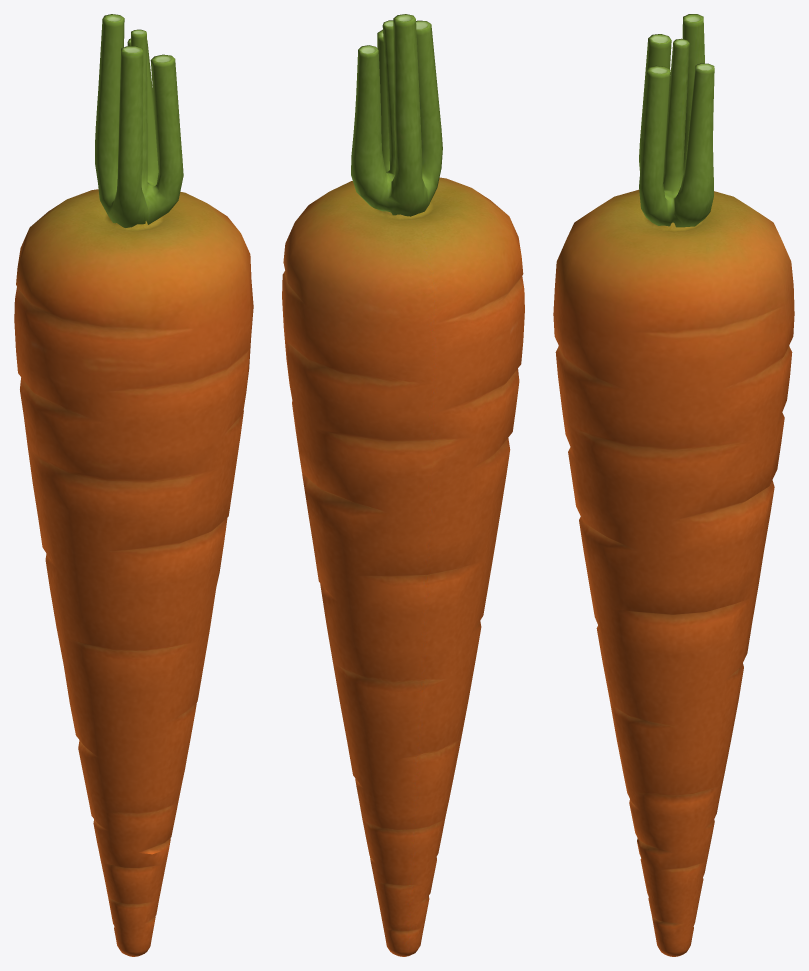
The model's file is carrot_path_post_blender.glb.
The picture shows the model from 3 angles, left to right: view 1: azimuth 30°, elevation 25°; view 2: azimuth 150°, elevation 25°; view 3: azimuth 270°, elevation 25°; orthographic projection.
Parts seen in each view (by area): view 1: Carrot; view 2: Carrot; view 3: Carrot.
Part boxes in pixels (left/top/right/bottom): Carrot: left=14, top=14, right=253, bottom=956; Carrot: left=282, top=14, right=524, bottom=956; Carrot: left=553, top=14, right=794, bottom=956.
Bounding box in the file's own units: 1.55 × 6.61 × 1.55.
1 material, 1 textured.
